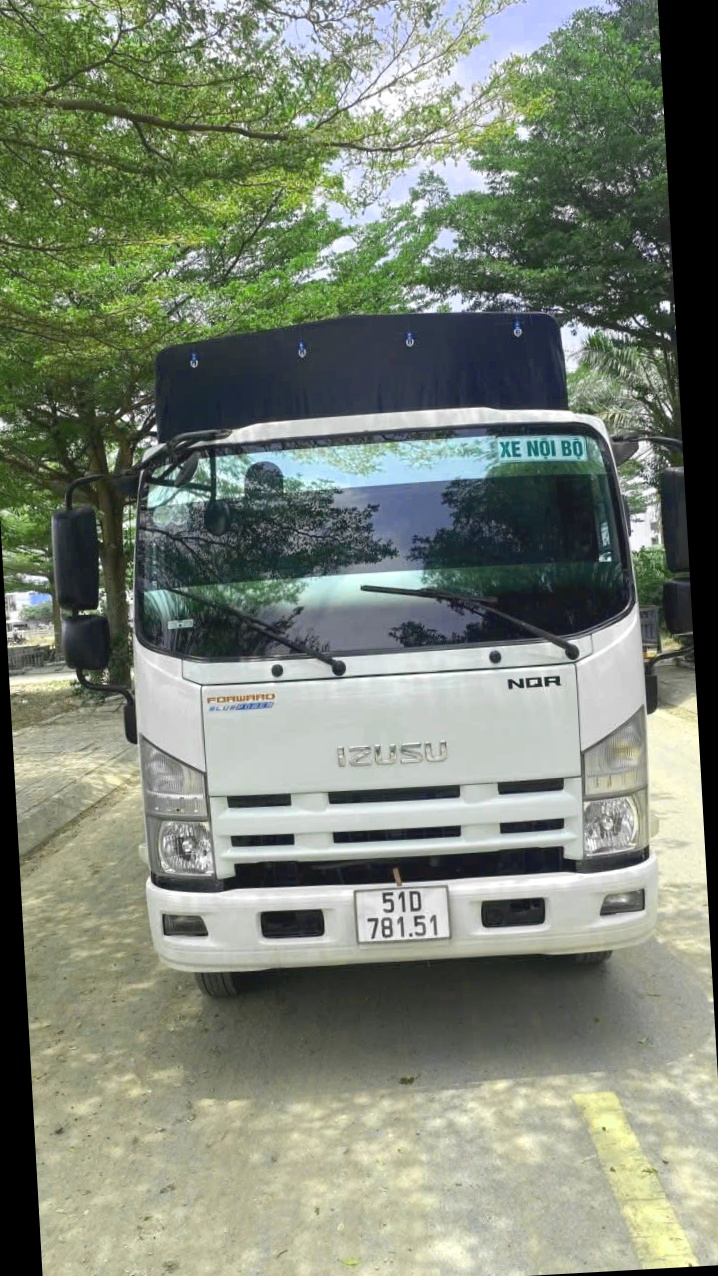Bien-so: (369, 852, 481, 918)
